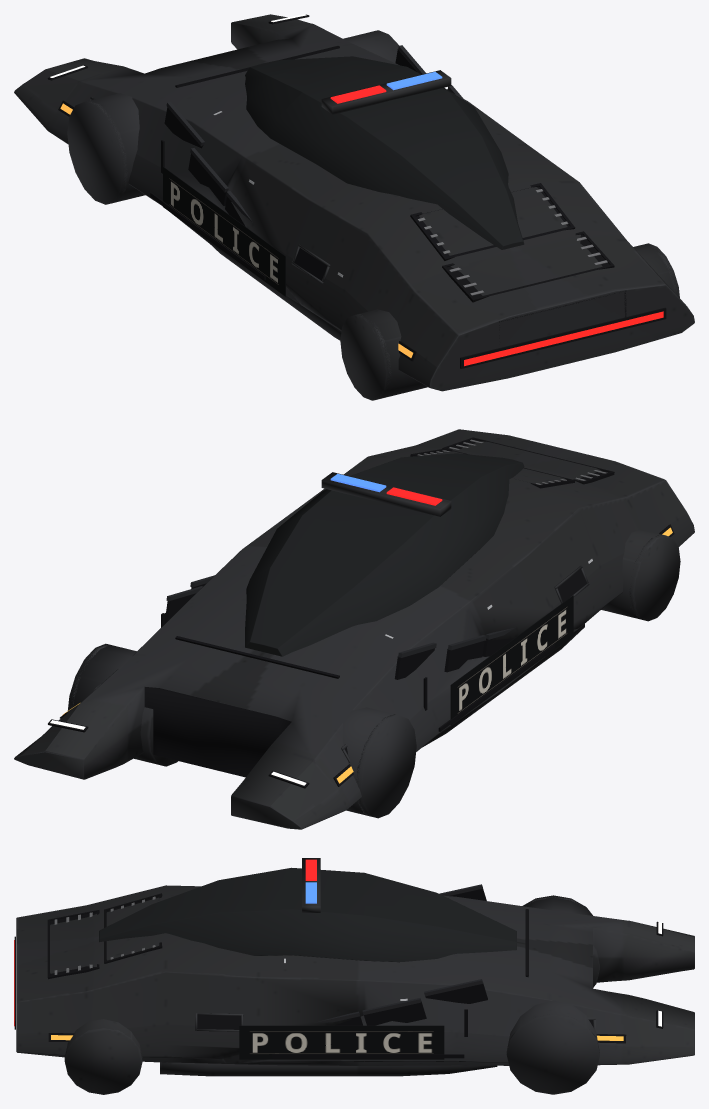
File: spinner-medium.glb
3 views of the same model, one above another, from view 1: azimuth 30°, elevation 25°; view 2: azimuth 150°, elevation 25°; view 3: azimuth 270°, elevation 25° (orthographic). The views are drawn at different scales.
Parts seen in each view (by area): view 1: body, glass, recess, livery, light-red, satin; view 2: body, glass, recess, livery, satin; view 3: body, glass, livery, recess, satin.
Boxes of the visible parts, <box> form: body: <box>14,14,694,400</box>; glass: <box>245,56,524,249</box>; recess: <box>47,14,666,368</box>; livery: <box>163,166,285,296</box>; light-red: <box>464,311,663,366</box>; satin: <box>166,45,463,221</box>; body: <box>14,429,694,829</box>; glass: <box>245,453,524,656</box>; recess: <box>48,437,674,788</box>; livery: <box>164,595,573,724</box>; satin: <box>166,575,515,657</box>; body: <box>16,858,694,1094</box>; glass: <box>99,867,516,962</box>; livery: <box>239,1025,444,1059</box>; recess: <box>14,888,663,1058</box>; satin: <box>314,884,482,1022</box>.
Bounding box in the file's own units: 2.32 × 1.36 × 5.45.
Materials: 13 (2 with a texture image).
